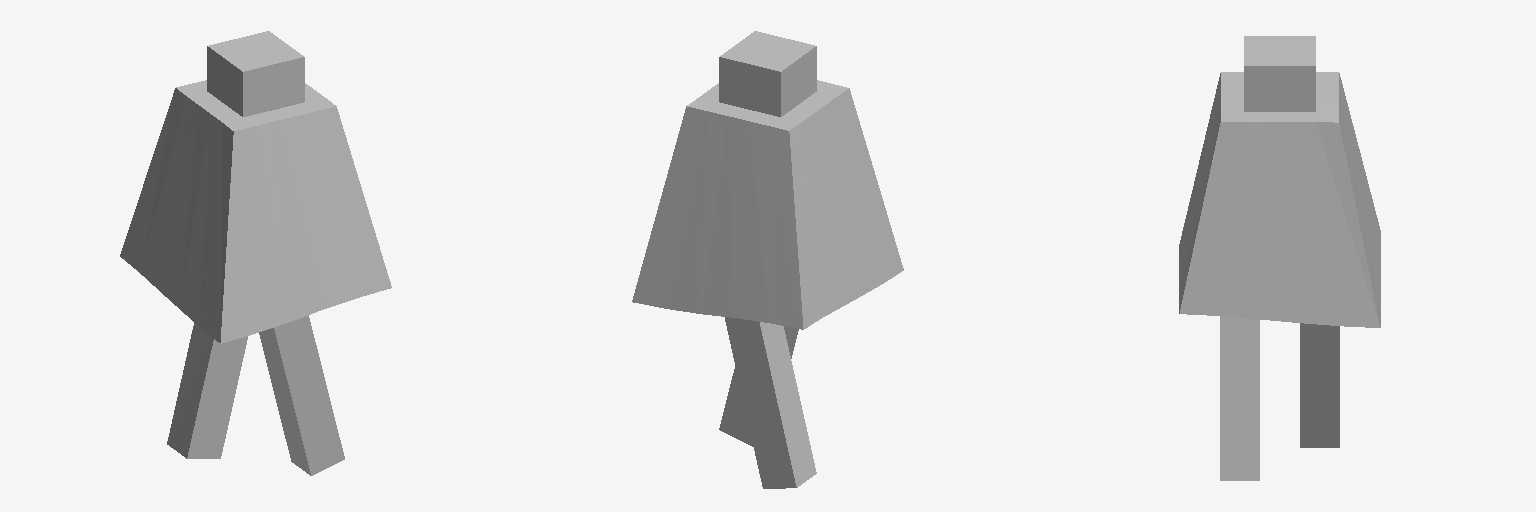
Rendered from essai_000007.obj.
3 views of the same model, side by side, from view 1: azimuth 30°, elevation 25°; view 2: azimuth 150°, elevation 25°; view 3: azimuth 270°, elevation 25° (orthographic).
Parts seen in each view (by area): view 1: Cube; view 2: Cube; view 3: Cube.
Boxes of the visible parts, box(x1,y1,x2,y2) form: Cube: box(120, 31, 391, 475); Cube: box(632, 31, 903, 488); Cube: box(1179, 36, 1380, 480).
Bounding box in the file's own units: 1.98 × 4.49 × 2.